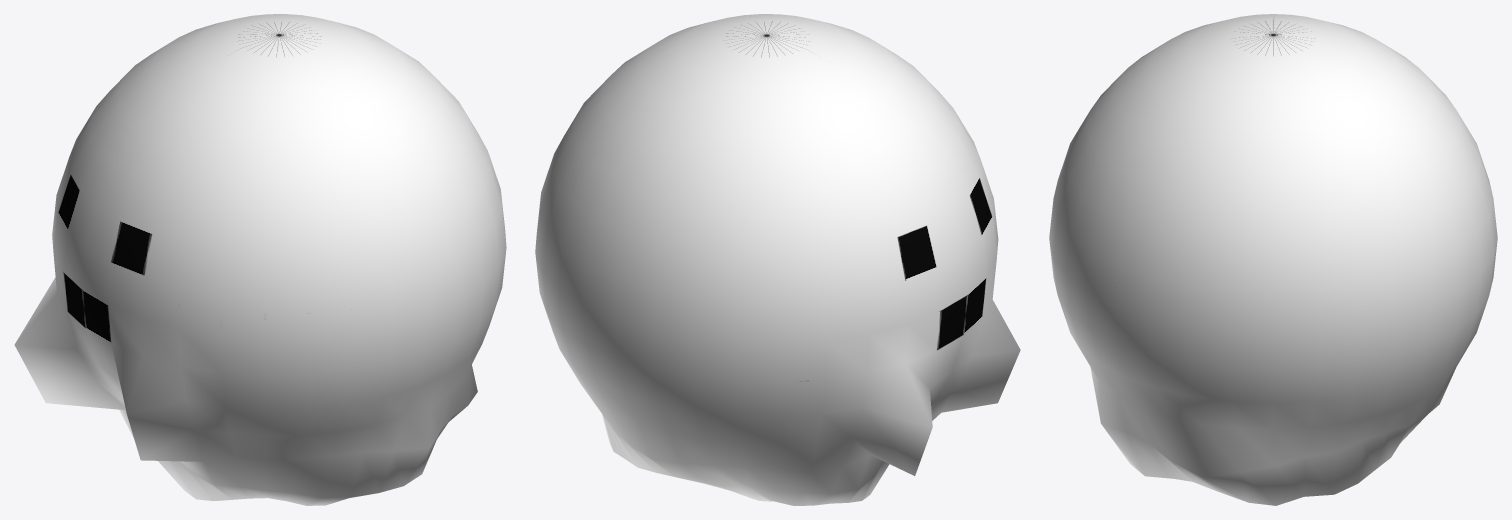
File: gost.obj
The picture shows the model from 3 angles, left to right: view 1: azimuth 30°, elevation 25°; view 2: azimuth 150°, elevation 25°; view 3: azimuth 270°, elevation 25°; orthographic projection. The views are drawn at different scales.
Visible parts, largest first — view 1: 球; view 2: 球; view 3: 球.
Part boxes in pixels (x1,y1,x2,y2): 球: (14, 14, 506, 505); 球: (535, 14, 1020, 505); 球: (1049, 14, 1497, 505).
Size of the model in its own units: 1.02 by 1.04 by 0.9791.
1 material, 1 textured.
